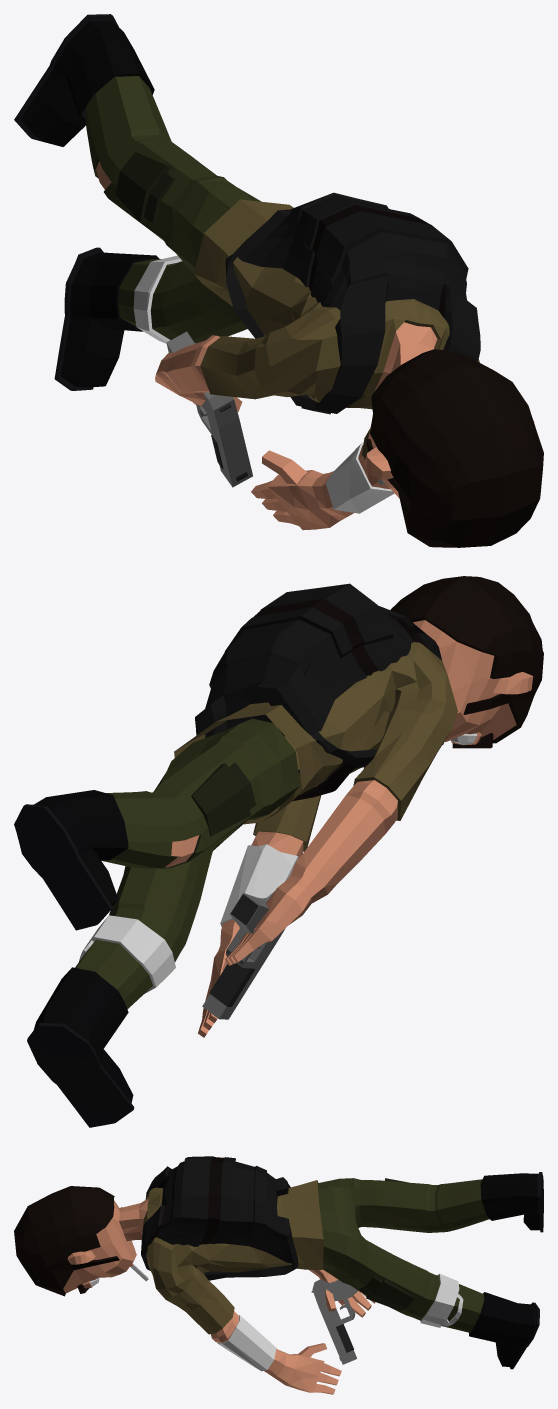
File: frame_0016.obj
3 renders of one model, top to bottom at view 1: azimuth 30°, elevation 25°; view 2: azimuth 150°, elevation 25°; view 3: azimuth 270°, elevation 25°, orthographic. The views are drawn at different scales.
Parts seen in each view (by area): view 1: Body, Gun; view 2: Body, Gun; view 3: Body, Gun.
Part boxes in pixels (box(x1,y1,x2,y2)): Body: box(14, 14, 543, 547); Gun: box(166, 331, 252, 487); Body: box(14, 576, 543, 1127); Gun: box(202, 891, 285, 1019); Body: box(14, 1156, 543, 1394); Gun: box(311, 1279, 357, 1364).
Bounding box in the file's own units: 1.09 × 1.96 × 4.12.
